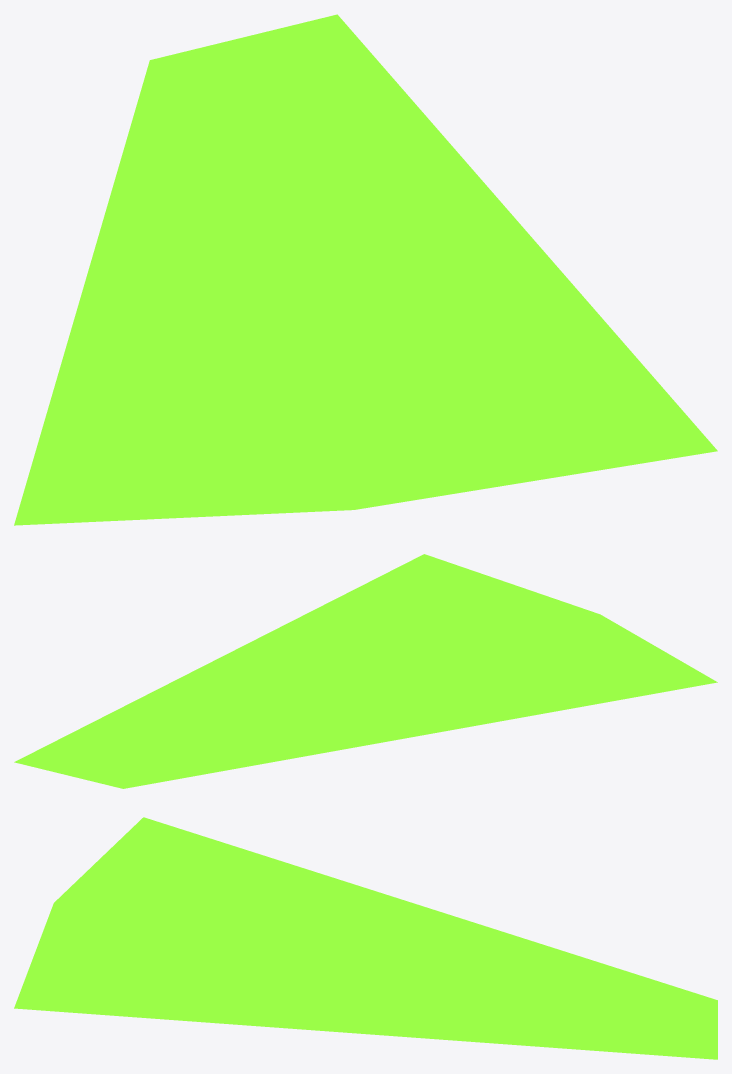
File: agora_area_maxg.glb
The picture shows the model from 3 angles, top to bottom: view 1: azimuth 30°, elevation 25°; view 2: azimuth 150°, elevation 25°; view 3: azimuth 270°, elevation 25°; orthographic projection. The views are drawn at different scales.
Visible parts, largest first — view 1: Mesh_0.002; view 2: Mesh_0.002; view 3: Mesh_0.002.
Part boxes in pixels (bbox=[...]): Mesh_0.002: bbox=[14, 14, 717, 525]; Mesh_0.002: bbox=[14, 554, 717, 788]; Mesh_0.002: bbox=[14, 817, 717, 1059].
Bounding box in the file's own units: 0.4739 × 8.3e-05 × 0.5811.
